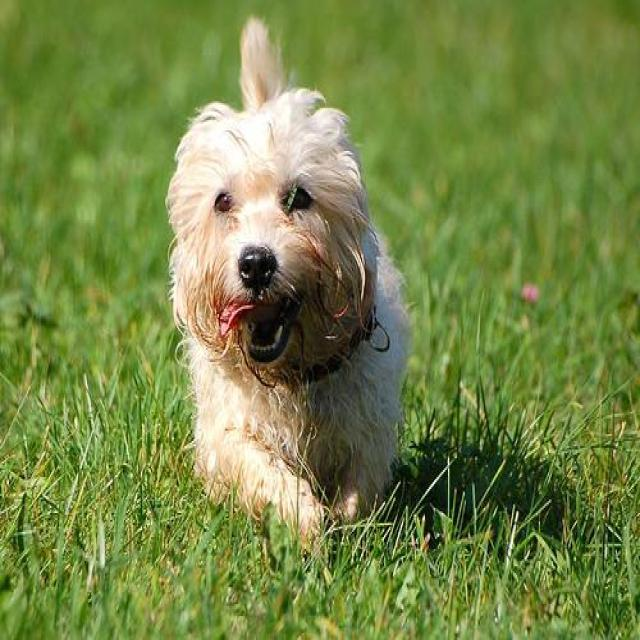dandie_dinmont: (162, 14, 414, 549)
